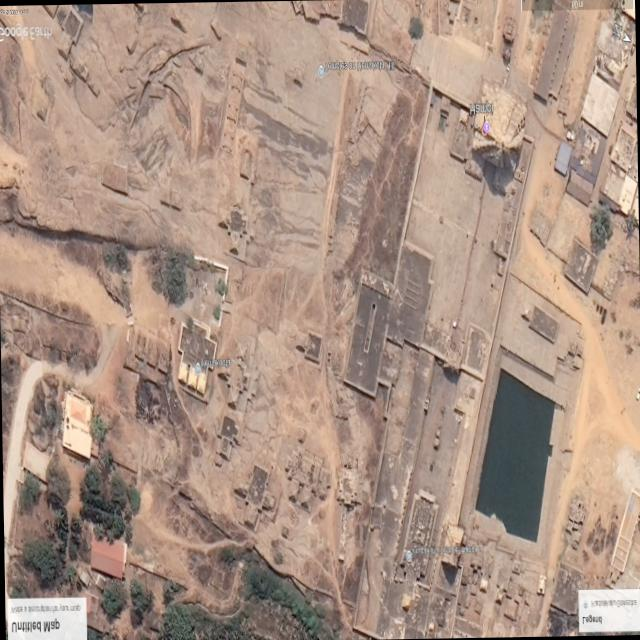artifacts: (330, 244, 450, 629), (5, 378, 162, 638), (522, 4, 638, 288), (121, 274, 228, 434), (434, 77, 532, 199), (554, 480, 640, 609), (448, 530, 543, 635), (13, 549, 118, 638), (236, 428, 316, 538), (385, 488, 445, 632), (8, 5, 92, 85), (424, 0, 498, 58), (333, 464, 363, 561), (487, 580, 527, 634), (214, 414, 240, 464)
ruins: (186, 7, 344, 248), (329, 66, 426, 301), (130, 34, 236, 176), (54, 13, 140, 139), (154, 479, 244, 550), (218, 336, 263, 418), (184, 542, 242, 600), (596, 232, 638, 302)
vegetation: (6, 472, 74, 594), (94, 554, 187, 640), (78, 446, 137, 532), (258, 564, 316, 624), (588, 202, 614, 255), (546, 605, 579, 636)
